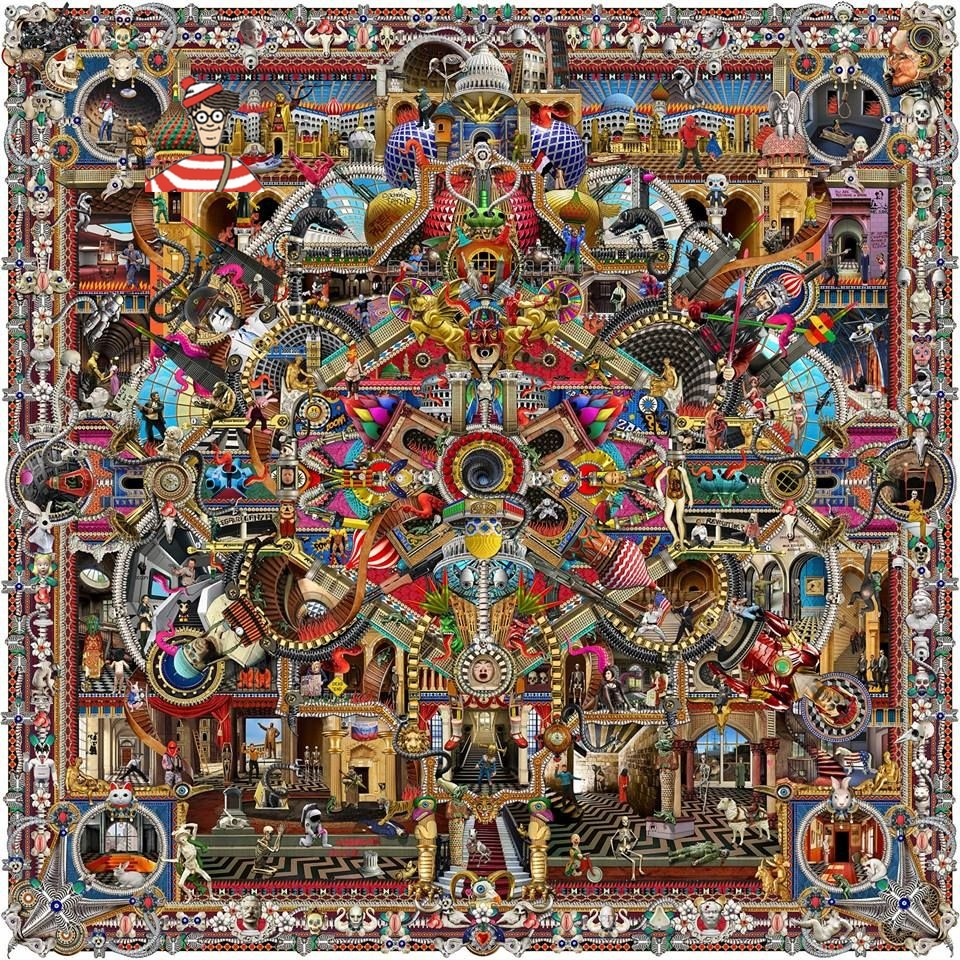waldo: (145, 73, 264, 192)
